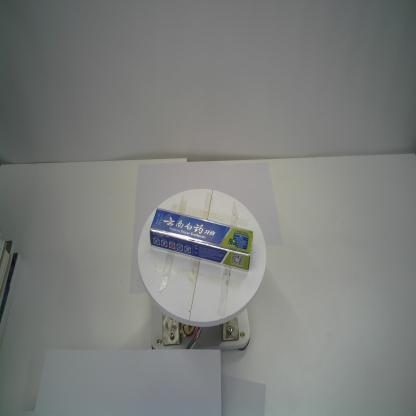Personal Hygiene: (150, 208, 254, 270)
